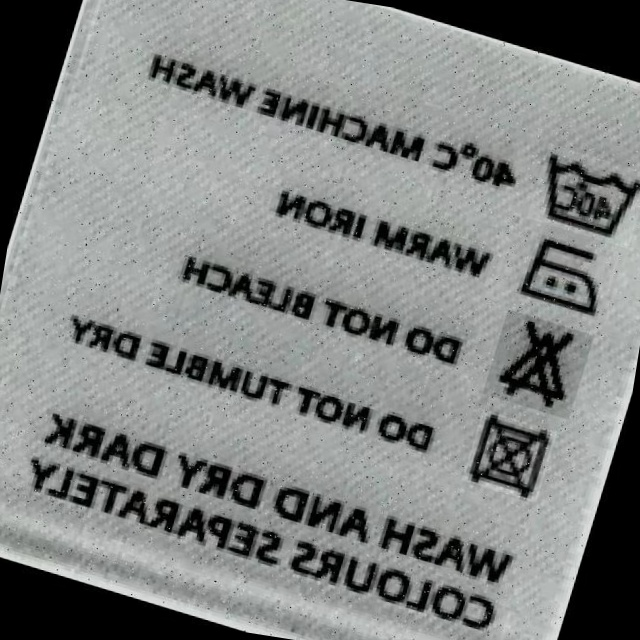40C: (532, 147, 640, 244)
DN_bleach: (492, 313, 586, 409)
DN_tumble_dry: (461, 408, 561, 509)
iron_medium: (511, 232, 611, 318)
